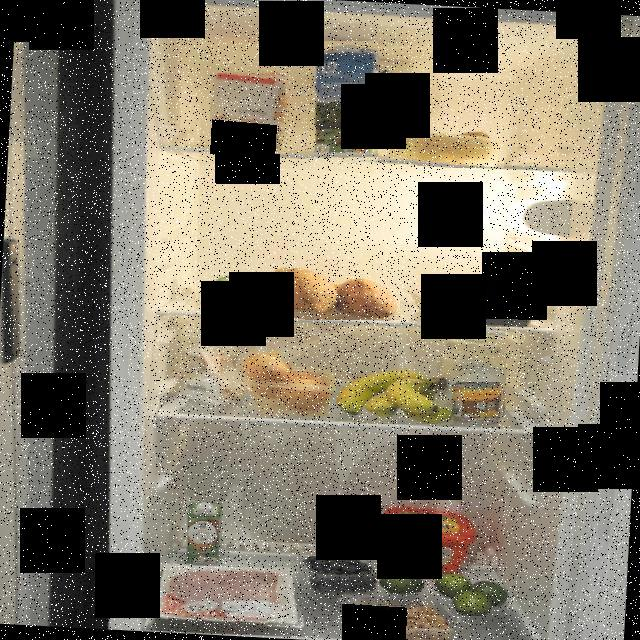banana: (335, 365, 462, 424)
beef: (400, 286, 548, 328)
blueberries: (292, 543, 384, 598)
butter: (378, 504, 478, 570)
corn: (450, 382, 503, 426)
flour: (168, 330, 250, 408)
goat_cheese: (196, 270, 259, 308)
ham: (156, 561, 308, 630)
heavy_cream: (184, 502, 224, 566)
lime: (378, 556, 512, 616)
milk: (302, 41, 378, 168)
onion: (238, 348, 336, 416)
potato: (398, 122, 504, 168)
shrimp: (346, 599, 454, 639)
sugar: (210, 68, 292, 154), (436, 326, 506, 416)
sweet_potato: (258, 256, 400, 320)
